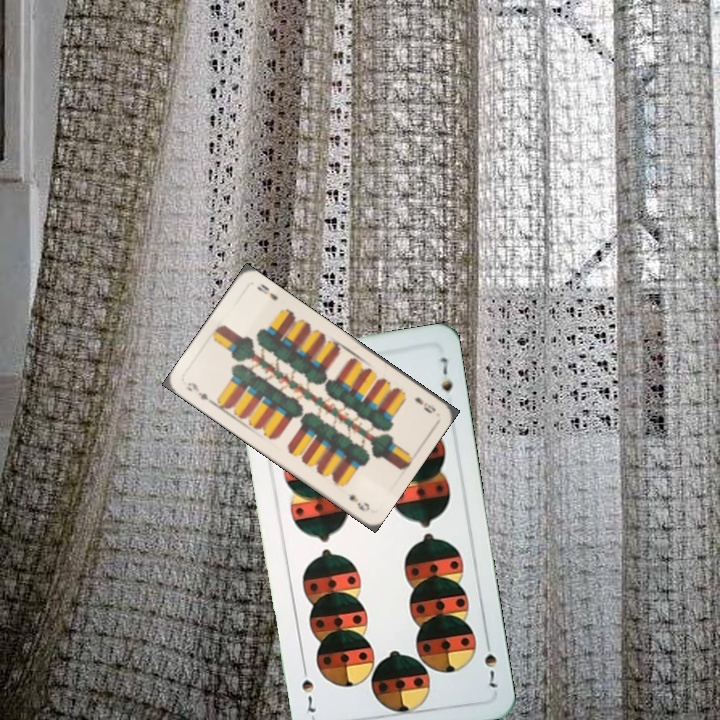E9: (182, 378, 217, 407), (411, 393, 438, 416)
S7: (480, 634, 500, 690)
